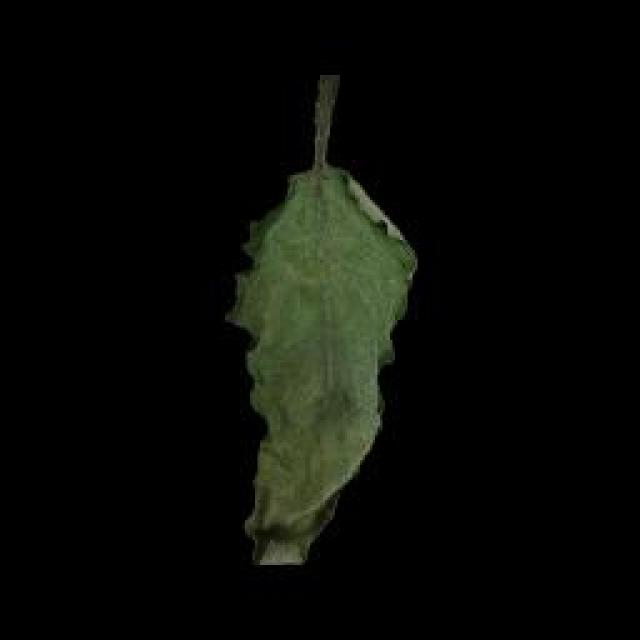Tomato Late Blight: (250, 390, 328, 583)
